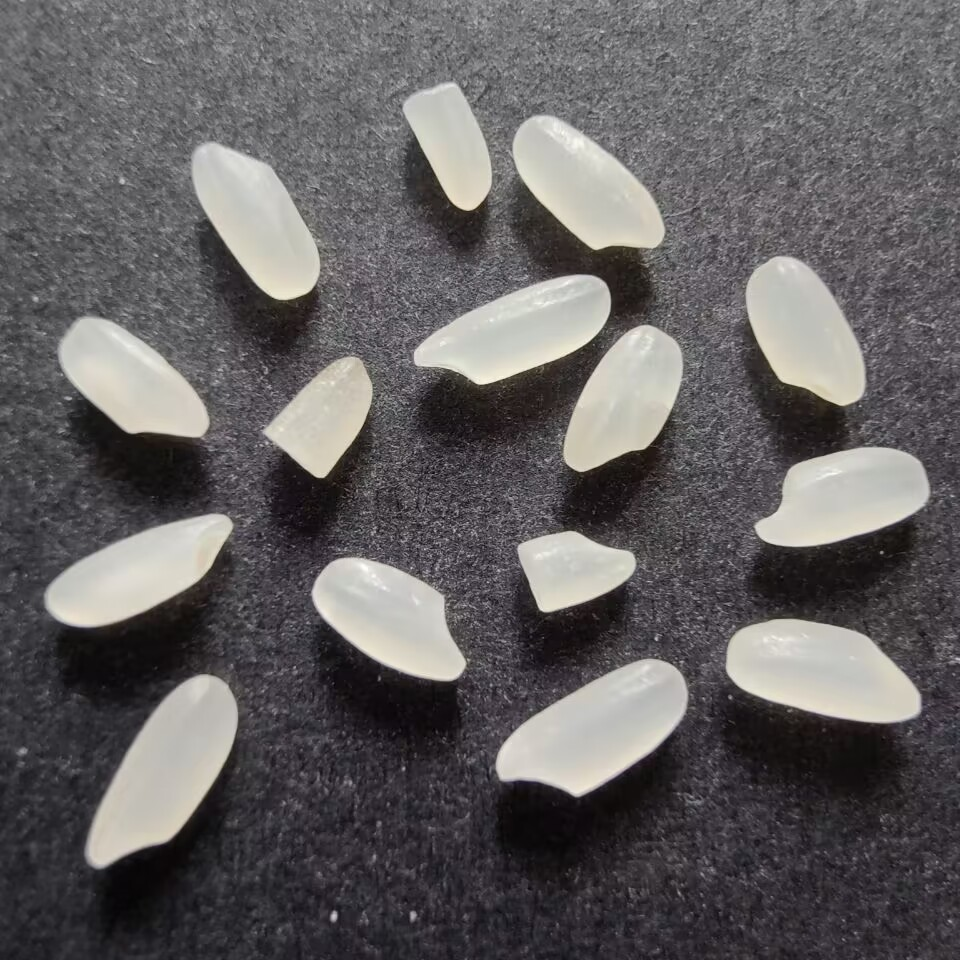broken: (260, 351, 375, 481), (397, 78, 497, 215), (512, 526, 640, 618)
rice: (84, 668, 245, 875), (489, 653, 692, 799), (37, 508, 237, 631), (410, 272, 615, 389), (509, 111, 669, 255), (191, 139, 326, 306), (722, 615, 924, 725), (309, 553, 468, 686), (54, 310, 211, 443), (746, 444, 934, 550), (744, 252, 870, 408), (560, 320, 684, 478)
